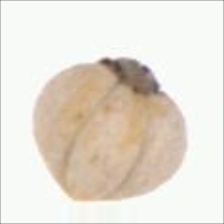L5: (60, 81, 144, 203), (97, 49, 170, 101)
L6: (28, 53, 190, 205)
